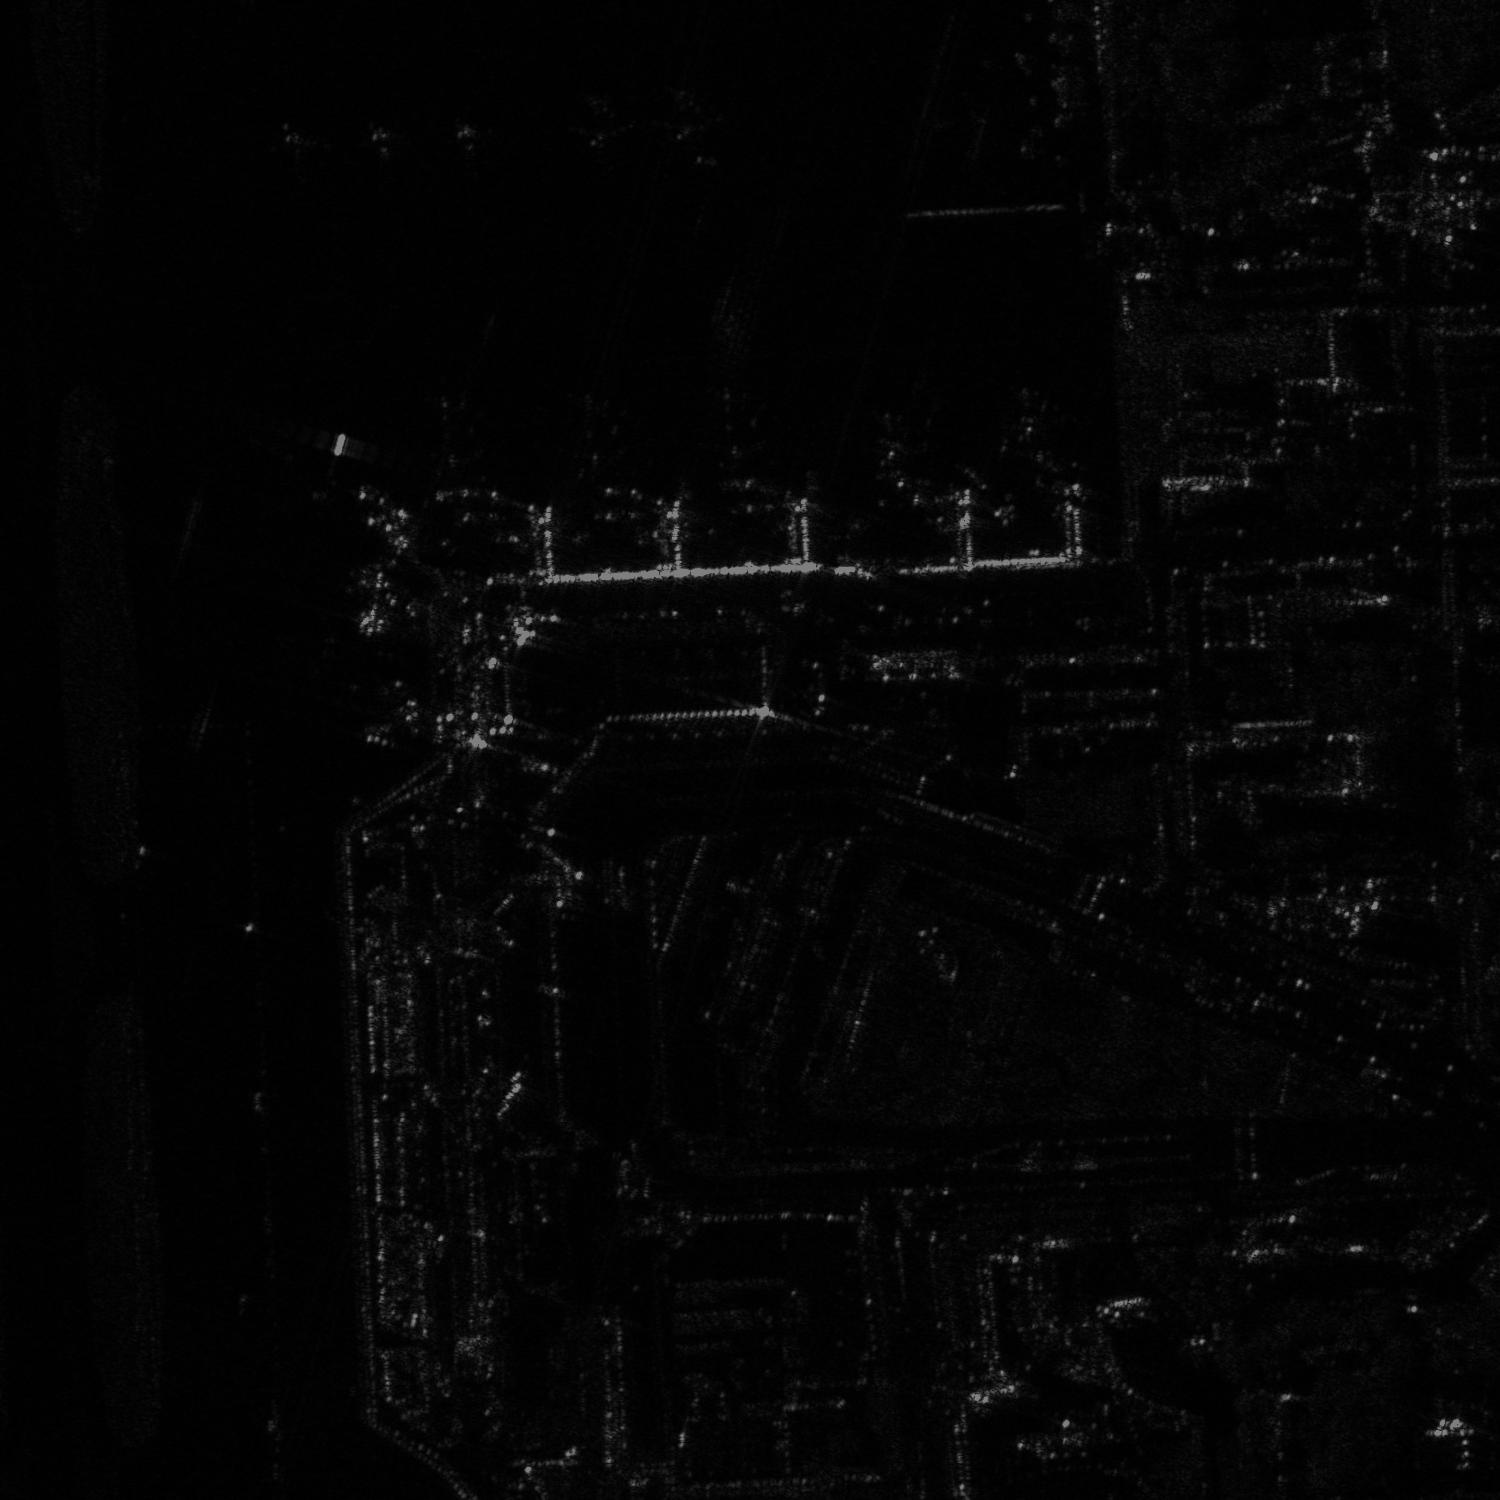A220: (545, 394, 659, 495), (988, 382, 1082, 473), (648, 85, 728, 157), (352, 117, 413, 187)
A320/321: (440, 111, 499, 183)
ARJ21: (262, 114, 334, 194)
Boeing787: (691, 387, 782, 495), (853, 413, 935, 489)
other: (407, 390, 508, 505), (565, 92, 643, 168)
